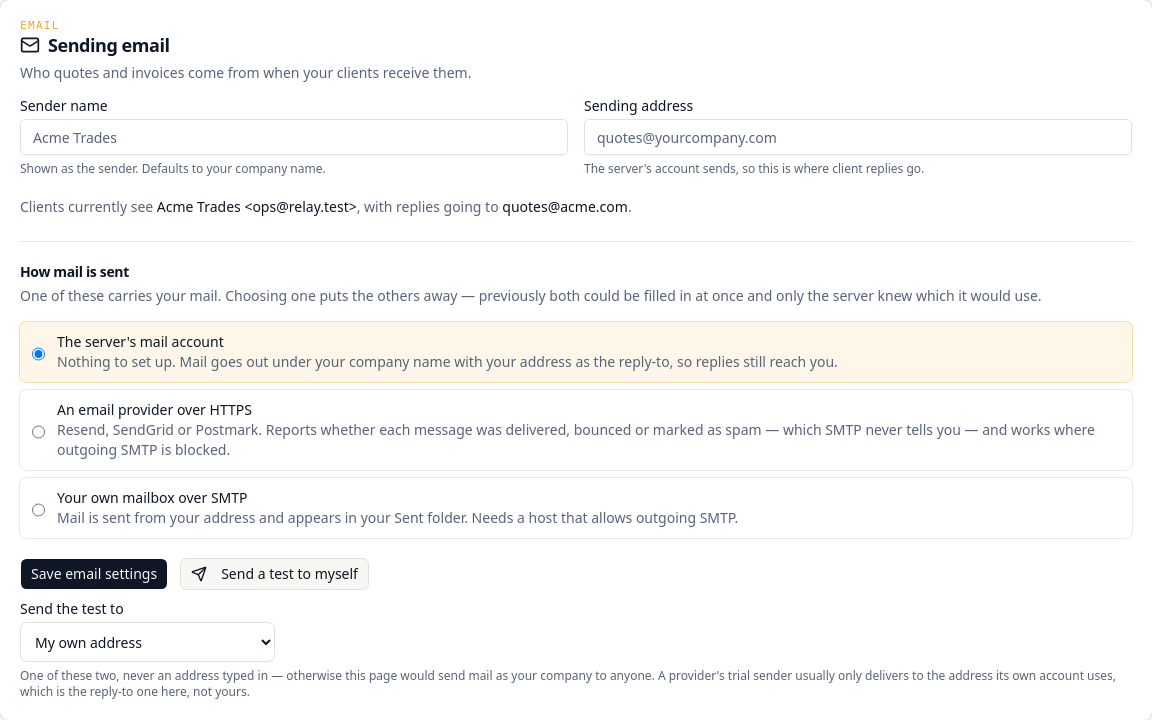
Test case: offers a way to test a provider before DNS is set up
The width and height of the screenshot is (1152, 720).
Click the radio button labelled "email provider" at (38, 432), box [32, 404, 45, 460]
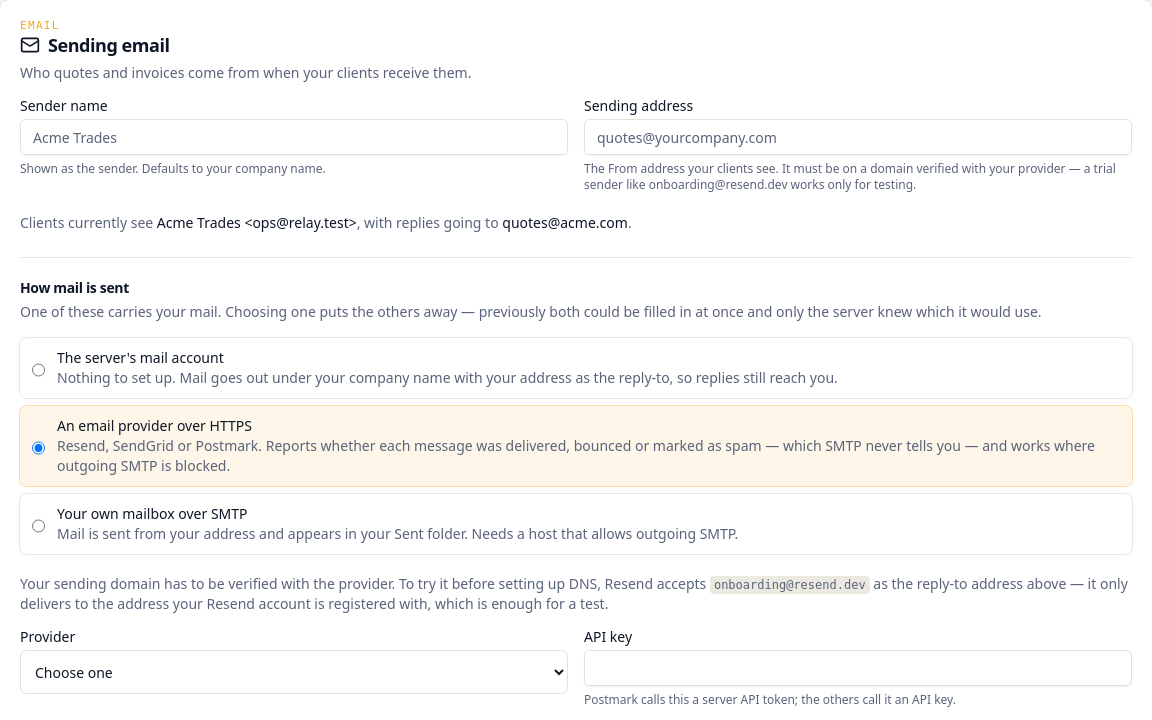
Expected: the text "onboarding@resend.dev" is shown, [710, 576, 870, 594]
